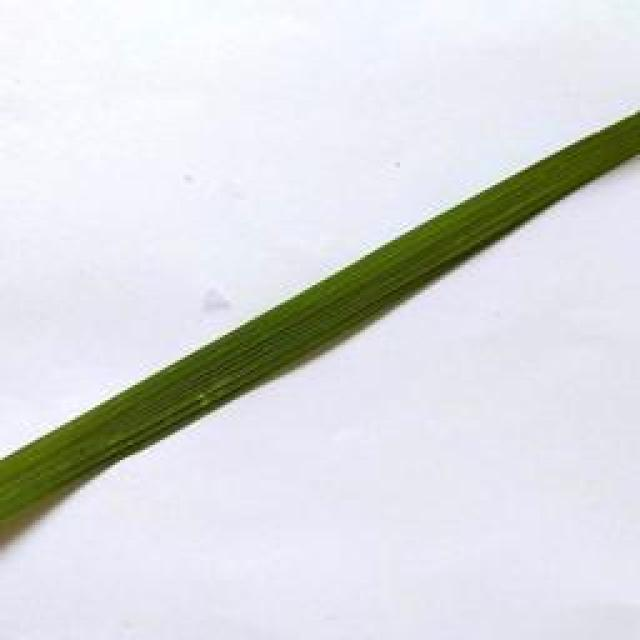Healthy-Plant: (0, 110, 640, 520)
